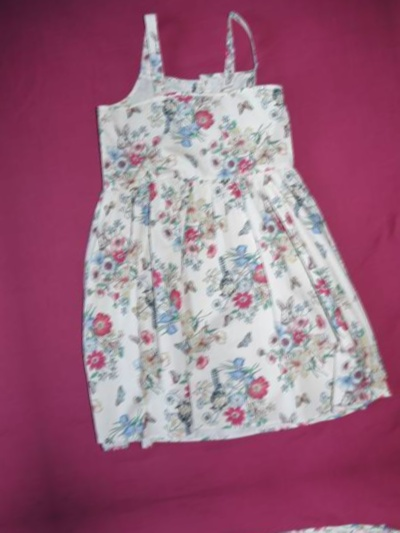Dress: (10, 8, 400, 478), (87, 497, 400, 533), (0, 67, 22, 533)
